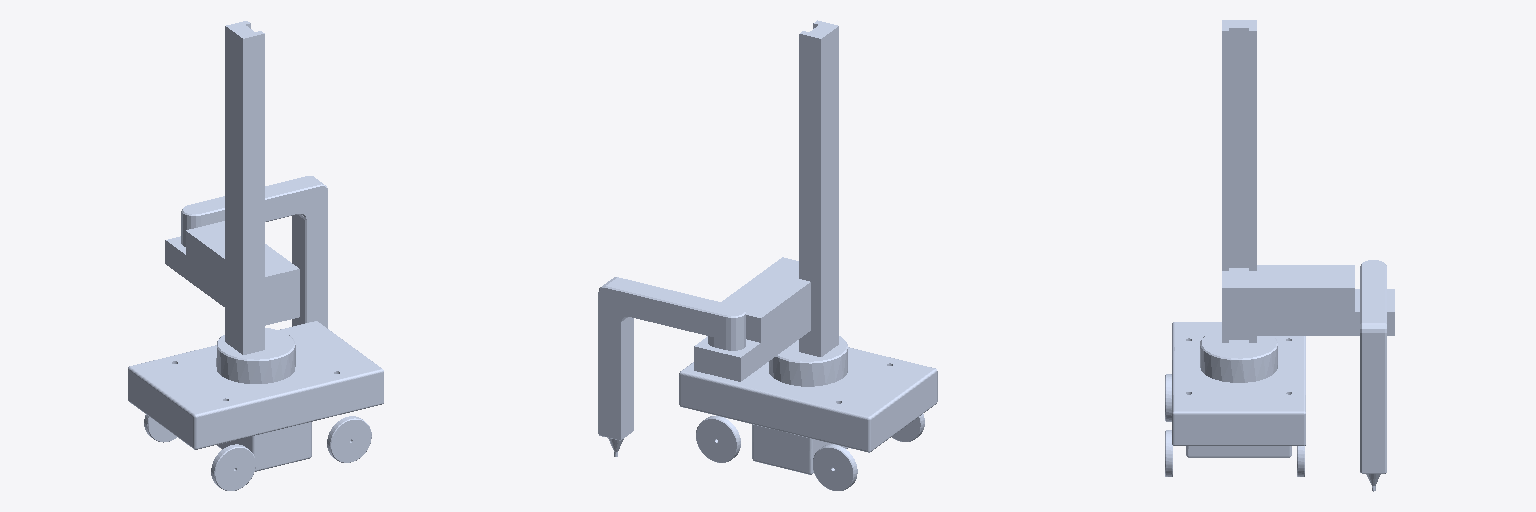
robot.urdf — mobile_printer:
<?xml version="1.0" ?>

<robot name="mobile_printer" xmlns:xacro="http://www.ros.org/wiki/xacro">
  
  <gazebo reference="base_link">
    <mu1>0.2</mu1>
    <mu2>0.2</mu2>
    <dampingFactor>0.2</dampingFactor>
    <material>Gazebo/Orange</material>
    <selfCollide>true</selfCollide>
  </gazebo>
  
  <gazebo reference="shoulder_link">
    <mu1>0.2</mu1>
    <mu2>0.2</mu2>
    <dampingFactor>0.2</dampingFactor>
    <material>Gazebo/Red</material>
    <selfCollide>true</selfCollide>
  </gazebo>

  <gazebo reference="prism_link">
    <mu1>0.2</mu1>
    <mu2>0.2</mu2>
    <dampingFactor>0.2</dampingFactor>
    <material>Gazebo/Orange</material>
    <selfCollide>true</selfCollide>
  </gazebo>
  
  <gazebo reference="elbow_link">
    <mu1>0.2</mu1>
    <mu2>0.2</mu2>
    <dampingFactor>0.2</dampingFactor>
    <material>Gazebo/Blue</material>
    <selfCollide>true</selfCollide>
  </gazebo>

  <gazebo reference="swerve_left_front_link">
    <mu1>0.2</mu1>
    <mu2>0.2</mu2>
    <material>Gazebo/Blue</material>
    <selfCollide>true</selfCollide>
    <dampingFactor>0.2</dampingFactor>
  </gazebo>

  <gazebo reference="swerve_right_front_link">
    <mu1>0.2</mu1>
    <mu2>0.2</mu2>
    <material>Gazebo/Blue</material>
    <selfCollide>true</selfCollide>
    <dampingFactor>0.2</dampingFactor>
  </gazebo>

  <gazebo reference="swerve_left_back_link">
    <mu1>0.2</mu1>
    <mu2>0.2</mu2>
    <material>Gazebo/Blue</material>
    <selfCollide>true</selfCollide>
    <dampingFactor>0.2</dampingFactor>
  </gazebo>

  <gazebo reference="swerve_right_back_link">
    <mu1>0.2</mu1>
    <mu2>0.2</mu2>
    <material>Gazebo/Blue</material>
    <selfCollide>true</selfCollide>
    <dampingFactor>0.2</dampingFactor>
  </gazebo>

  <gazebo reference="left_front_wheel">
    <mu1>100000.0</mu1>
    <mu2>100000.0</mu2>
    <material>Gazebo/Blue</material>
    <selfCollide>true</selfCollide>
  </gazebo>

  <gazebo reference="right_front_wheel">
    <mu1>100000.0</mu1>
    <mu2>100000.0</mu2>
    <material>Gazebo/Blue</material>
    <selfCollide>true</selfCollide>
  </gazebo>

  <gazebo reference="left_back_wheel">
    <mu1>100000.0</mu1>
    <mu2>100000.0</mu2>
    <material>Gazebo/Blue</material>
    <selfCollide>true</selfCollide>
  </gazebo>

  <gazebo reference="right_back_wheel">
    <mu1>100000.0</mu1>
    <mu2>100000.0</mu2>
    <material>Gazebo/Blue</material>
    <selfCollide>true</selfCollide>
  </gazebo>

  <gazebo>
  <plugin name="gazebo_ros_control" filename="libgazebo_ros_control.so">
    <robotNamespace>/MYROBOT</robotNamespace>
    <robotSimType>gazebo_ros_control/DefaultRobotHWSim</robotSimType>
  </plugin>
</gazebo>

  <!-- Import Rviz colors -->
  <material name="black">
    <color rgba="0.0 0.0 0.0 1.0"/>
  </material>
  <material name="blue">
    <color rgba="0.0 0.0 0.8 1.0"/>
  </material>
  <material name="green">
    <color rgba="0.0 0.8 0.0 1.0"/>
  </material>
  <material name="grey">
    <color rgba="0.2 0.2 0.2 1.0"/>
  </material>
  <material name="orange">
    <color rgba="1.0 0.423529411765 0.0392156862745 1.0"/>
  </material>
  <material name="brown">
    <color rgba="0.870588235294 0.811764705882 0.764705882353 1.0"/>
  </material>
  <material name="red">
    <color rgba="0.8 0.0 0.0 1.0"/>
  </material>
  <material name="white">
    <color rgba="1.0 1.0 1.0 1.0"/>
  </material>
  
<link name="base_link">
    <inertial>
      <origin
        xyz="0 0 0.348"
        rpy="0 0 0" />
      <mass
        value="50" />
      <inertia
        ixx="5.60770884492841"
        ixy="0"
        ixz="0"
        iyy="1"
        iyz="-13.6550522201205"
        izz="1" />
    </inertial>
    <visual>
      <origin
        xyz="0 0 0.348"
        rpy="0 0 0" />
      <geometry>
        <mesh
          filename="package://printer_description/meshes/MPO_700_body_simple.SLDPRT.STL" />
      </geometry>
      <material
        name="">
        <color
          rgba="0.86667 0.9098 1 1" />
      </material>
    </visual>
    <collision>
      <origin
        xyz="0 0 0.348"
        rpy="0 0 0" />
      <geometry>
        <mesh
          filename="package://printer_description/meshes/MPO_700_body_simple.SLDPRT.STL" />
      </geometry>
    </collision>
  </link>

  <link
    name="shoulder_link">
    <inertial>
      <origin
        xyz="0 0 0"
        rpy="0 0 0" />
      <mass
        value="20" />
      <inertia
        ixx="11.663244910873"
        ixy="0"
        ixz="-0.463117260190688"
        iyy="1"
        iyz="-0.325943705018541"
        izz="1" />
    </inertial>
    <visual>
      <origin
        xyz="0 0 0"
        rpy="0 0 0" />
      <geometry>
        <mesh
          filename="package://printer_description/meshes/Arm_link1_simple.SLDPRT.STL" />
      </geometry>
      <material
        name="">
        <color
          rgba="0.86667 0.9098 1 1" />
      </material>
    </visual>
    <collision>
      <origin
        xyz="0 0 0"
        rpy="0 0 0" />
      <geometry>
        <mesh
          filename="package://printer_description/meshes/Arm_link1_simple.SLDPRT.STL" />
      </geometry>
    </collision>
  </link>

  <link
    name="prism_link">
    <inertial>
      <origin
        xyz="0 0 0"
        rpy="0 0 0" />
      <mass
        value="10" />
      <inertia
        ixx="1.9616662001775"
        ixy="-0.0491005071338084"
        ixz="0.00131624037987076"
        iyy="0.105829672288633"
        iyz="-1.9566286660684"
        izz="-0.105829672288633" />
    </inertial>
    <visual>
      <origin
        xyz="0 0 0"
        rpy="0 0 0" />
      <geometry>
        <mesh
          filename="package://printer_description/meshes/Arm_link2_simple.SLDPRT.STL" />
      </geometry>
      <material
        name="">
        <color
          rgba="0.86667 0.9098 1 1" />
      </material>
    </visual>
    <collision>
      <origin
        xyz="0 0 0"
        rpy="0 0 0" />
      <geometry>
        <mesh
          filename="package://printer_description/meshes/Arm_link2_simple.SLDPRT.STL" />
      </geometry>
    </collision>
  </link>

  <link
    name="elbow_link">
    <inertial>
      <origin
        xyz="0 0 0"
        rpy="0 0 0" />
      <mass
        value="10" />
      <inertia
        ixx="1.14535612773492"
        ixy="0"
        ixz="-0.625467963004431"
        iyy="1"
        iyz="-1.14069726824125"
        izz="1" />
    </inertial>
    <visual>
      <origin
        xyz="0 0 0"
        rpy="0 0 0" />
      <geometry>
        <mesh
          filename="package://printer_description/meshes/Arm_link3_simple.SLDPRT.STL" />
      </geometry>
      <material
        name="">
        <color
          rgba="0.86667 0.9098 1 1" />
      </material>
    </visual>
    <collision>
      <origin
        xyz="0 0 0"
        rpy="0 0 0" />
      <geometry>
        <mesh
          filename="package://printer_description/meshes/Arm_link3_simple.SLDPRT.STL" />
      </geometry>
    </collision>
  </link>

  <link name="swerve_left_front_link">
    <inertial>
      <origin
        xyz="0 0 0"
        rpy="0 0 0" />
      <mass
        value="10" />
      <inertia
        ixx="10"
        ixy="0"
        ixz="0"
        iyy="10"
        iyz="0"
        izz="10" />
    </inertial>
  </link>

  <link name="swerve_right_front_link">
    <inertial>
      <origin
        xyz="0 0 0"
        rpy="0 0 0" />
      <mass
        value="10" />
      <inertia
        ixx="10"
        ixy="0"
        ixz="0"
        iyy="10"
        iyz="0"
        izz="10" />
    </inertial>
  </link>

  <link name="swerve_left_back_link">
    <inertial>
      <origin
        xyz="0 0 0"
        rpy="0 0 0" />
      <mass
        value="10" />
      <inertia
        ixx="10"
        ixy="0"
        ixz="0"
        iyy="10"
        iyz="0"
        izz="10" />
    </inertial>
  </link>

  <link name="swerve_right_back_link">
    <inertial>
      <origin
        xyz="0 0 0"
        rpy="0 0 0" />
      <mass
        value="10" />
      <inertia
        ixx="10"
        ixy="0"
        ixz="0"
        iyy="10"
        iyz="0"
        izz="10" />
    </inertial>
  </link>

  <link
    name="left_front_wheel">
    <inertial>
      <origin
        xyz="0 0 0"
        rpy="0 0 0" />
      <mass
        value="10" />
      <inertia
        ixx="10"
        ixy="0"
        ixz="0"
        iyy="10"
        iyz="0"
        izz="10" />
    </inertial>
    <visual>
      <origin
        xyz="0 0 0"
        rpy="0 0 0" />
      <geometry>
        <mesh
          filename="package://printer_description/meshes/MPO_700_wheel_simple.SLDPRT.STL" />
      </geometry>
      <material
        name="">
        <color
          rgba="0.86667 0.9098 1 1" />
      </material>
    </visual>
    <collision>
      <origin
        xyz="0 0 0"
        rpy="0 0 0" />
      <geometry>
        <mesh
          filename="package://printer_description/meshes/MPO_700_wheel_simple.SLDPRT.STL" />
      </geometry>
    </collision>
  </link>

  <link
    name="right_front_wheel">
    <inertial>
      <origin
        xyz="0 0 0"
        rpy="0 0 0" />
      <mass
        value="10" />
      <inertia
        ixx="10"
        ixy="0"
        ixz="0"
        iyy="10"
        iyz="0"
        izz="10" />
    </inertial>
    <visual>
      <origin
        xyz="0 0 0"
        rpy="0 0 0" />
      <geometry>
        <mesh
          filename="package://printer_description/meshes/MPO_700_wheel_simple.SLDPRT.STL" />
      </geometry>
      <material
        name="">
        <color
          rgba="0.86667 0.9098 1 1" />
      </material>
    </visual>
    <collision>
      <origin
        xyz="0 0 0"
        rpy="0 0 0" />
      <geometry>
        <mesh
          filename="package://printer_description/meshes/MPO_700_wheel_simple.SLDPRT.STL" />
      </geometry>
    </collision>
  </link>

  <link
    name="left_back_wheel">
    <inertial>
      <origin
        xyz="0 0 0"
        rpy="0 0 0" />
      <mass
        value="10" />
      <inertia
        ixx="10"
        ixy="0"
        ixz="0"
        iyy="10"
        iyz="0"
        izz="10" />
    </inertial>
    <visual>
      <origin
        xyz="0 0 0"
        rpy="0 0 0" />
      <geometry>
        <mesh
          filename="package://printer_description/meshes/MPO_700_wheel_simple.SLDPRT.STL" />
      </geometry>
      <material
        name="">
        <color
          rgba="0.86667 0.9098 1 1" />
      </material>
    </visual>
    <collision>
      <origin
        xyz="0 0 0"
        rpy="0 0 0" />
      <geometry>
        <mesh
          filename="package://printer_description/meshes/MPO_700_wheel_simple.SLDPRT.STL" />
      </geometry>
    </collision>
  </link>

  <link
    name="right_back_wheel">
    <inertial>
      <origin
        xyz="0 0 0"
        rpy="0 0 0" />
      <mass
        value="10" />
      <inertia
        ixx="10"
        ixy="0"
        ixz="0"
        iyy="10"
        iyz="0"
        izz="10" />
    </inertial>
    <visual>
      <origin
        xyz="0 0 0"
        rpy="0 0 0" />
      <geometry>
        <mesh
          filename="package://printer_description/meshes/MPO_700_wheel_simple.SLDPRT.STL" />
      </geometry>
      <material
        name="">
        <color
          rgba="0.86667 0.9098 1 1" />
      </material>
    </visual>
    <collision>
      <origin
        xyz="0 0 0"
        rpy="0 0 0" />
      <geometry>
        <mesh
          filename="package://printer_description/meshes/MPO_700_wheel_simple.SLDPRT.STL" />
      </geometry>
    </collision>
  </link>

   <joint name="shoulder_joint" type="continuous">
    <parent link="base_link"/>
    <child link="shoulder_link"/>
    <origin rpy="0 0 0" xyz="0 0 0.348"/>
    <axis xyz="0 0 1"/>
  </joint>

<joint name="prism_joint" type="prismatic">
    <parent link="shoulder_link"/>
    <child link="prism_link"/>
    <origin rpy="0 0 0" xyz="0.0 0 .2"/>
    <axis xyz="0 0 1"/>
    <limit effort="1000.0" lower="0.0" upper="1" velocity="0.5"/>
  </joint>

  <joint name="elbow_joint" type="continuous">
    <parent link="prism_link"/>
    <child link="elbow_link"/>
    <origin rpy="0 0 0" xyz="0.03 0.51 0.1"/>
    <axis xyz="0 0 1"/>
  </joint>

  <joint name="swerve_left_front_joint" type="continuous">
    <parent link="base_link"/>
    <child link="swerve_left_front_link"/>
    <origin rpy="0 0 0" xyz="0.25 0.25 0.1"/>
    <axis xyz="0 0 1"/>
  </joint>

  <joint name="swerve_right_front_joint" type="continuous">
    <parent link="base_link"/>
    <child link="swerve_right_front_link"/>
    <origin rpy="0 0 0" xyz="0.25 -0.25 0.1"/>
    <axis xyz="0 0 1"/>
  </joint>

  <joint name="swerve_left_back_joint" type="continuous">
    <parent link="base_link"/>
    <child link="swerve_left_back_link"/>
    <origin rpy="0 0 0" xyz="-0.25 0.25 0.1"/>
    <axis xyz="0 0 1"/>
  </joint>

  <joint name="swerve_right_back_joint" type="continuous">
    <parent link="base_link"/>
    <child link="swerve_right_back_link"/>
    <origin rpy="0 0 0" xyz="-0.25 -0.25 0.1"/>
    <axis xyz="0 0 1"/>
  </joint>

  <joint name="left_front_joint" type="continuous">
    <parent link="swerve_left_front_link"/>
    <child link="left_front_wheel"/>
    <origin rpy="-1.5712963 0 0" xyz="0 0 0"/>    
    <axis xyz="0 0 1"/>
  </joint>

  <joint name="right_front_joint" type="continuous">
    <parent link="swerve_right_front_link"/>
    <child link="right_front_wheel"/>
    <origin rpy="-1.5712963 0 0" xyz="0 0 0"/>
    <axis xyz="0 0 1"/>
  </joint>

  <joint name="left_back_joint" type="continuous">
    <parent link="swerve_left_back_link"/>
    <child link="left_back_wheel"/>
    <origin rpy="-1.5712963 0 0" xyz="0 0 0"/>
    <axis xyz="0 0 1"/>
  </joint>

  <joint name="right_back_joint" type="continuous">
    <parent link="swerve_right_back_link"/>
    <child link="right_back_wheel"/>
    <origin rpy="-1.5712963 0 0" xyz="0 0 0"/>
    <axis xyz="0 0 1"/>
  </joint>

  <transmission name="left_front_wheel_trans">
    <type>transmission_interface/SimpleTransmission</type>
    <joint name="left_front_joint"/>
    <actuator name="left_front_motor">
      <hardwareInterface>hardware_interface/VelocityJointInterface</hardwareInterface>
      <mechanicalReduction>1</mechanicalReduction>
    </actuator>
  </transmission>

  <transmission name="right_front_wheel_trans">
    <type>transmission_interface/SimpleTransmission</type>
    <joint name="right_front_joint"/>
    <actuator name="right_front_motor">
      <hardwareInterface>hardware_interface/VelocityJointInterface</hardwareInterface>
      <mechanicalReduction>1</mechanicalReduction>
    </actuator>
  </transmission>

  <transmission name="left_back_wheel_trans">
    <type>transmission_interface/SimpleTransmission</type>
    <joint name="left_back_joint"/>
    <actuator name="left_back_motor">
      <hardwareInterface>hardware_interface/VelocityJointInterface</hardwareInterface>
      <mechanicalReduction>1</mechanicalReduction>
    </actuator>
  </transmission>

  <transmission name="right_back_wheel_trans">
    <type>transmission_interface/SimpleTransmission</type>
    <joint name="right_back_joint"/>
    <actuator name="right_back_motor">
      <hardwareInterface>hardware_interface/VelocityJointInterface</hardwareInterface>
      <mechanicalReduction>1</mechanicalReduction>
    </actuator>
  </transmission>  

</robot>

--- Render facts (derived) ---
The picture shows the robot from 3 angles, left to right: view 1: azimuth 30°, elevation 25°; view 2: azimuth 150°, elevation 25°; view 3: azimuth 270°, elevation 25°; orthographic projection.
Robot: mobile_printer — 12 links, 11 joints (10 continuous, 1 prismatic); root link base_link; default pose: every joint at zero.
Visible links, largest first — view 1: base_link, shoulder_link, elbow_link, prism_link, right_back_wheel, right_front_wheel; view 2: base_link, shoulder_link, elbow_link, prism_link, left_front_wheel, left_back_wheel; view 3: base_link, shoulder_link, prism_link, elbow_link.
Boxes of the visible links, box(x1,y1,x2,y2) form: base_link: box(128, 321, 383, 471); shoulder_link: box(216, 21, 295, 383); elbow_link: box(181, 176, 327, 328); prism_link: box(165, 221, 299, 325); right_back_wheel: box(211, 444, 255, 490); right_front_wheel: box(327, 416, 371, 462); base_link: box(679, 347, 937, 474); shoulder_link: box(769, 20, 847, 386); elbow_link: box(598, 277, 745, 456); prism_link: box(694, 257, 810, 381); left_front_wheel: box(696, 416, 740, 462); left_back_wheel: box(813, 444, 857, 490); base_link: box(1172, 322, 1305, 457); shoulder_link: box(1200, 20, 1277, 382); prism_link: box(1222, 265, 1394, 335); elbow_link: box(1360, 260, 1386, 491).
Size in the robot's own frame: 0.9909 by 0.87 by 1.74 metres.
Meshes: 5 distinct files referenced, 8 mesh visuals loaded (5 binary STL).